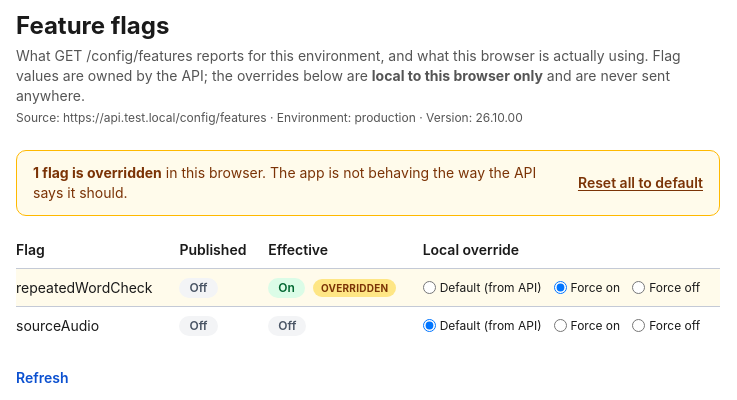
it: FeatureFlagsDiagnostics — local override controls › choosing Default clears the override
Click the radio button with test id "flag-override-repeatedWordCheck-default".
click(429, 288)  # box [423,281,436,294]
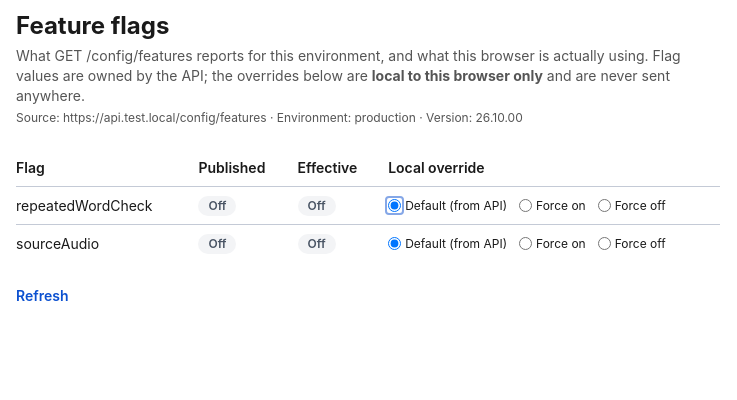
Expected: the text with test id "flag-state-repeatedWordCheck" reads "Off", [308,198,326,213]
Expected: the text with test id "flag-overridden-repeatedWordCheck" is gone
